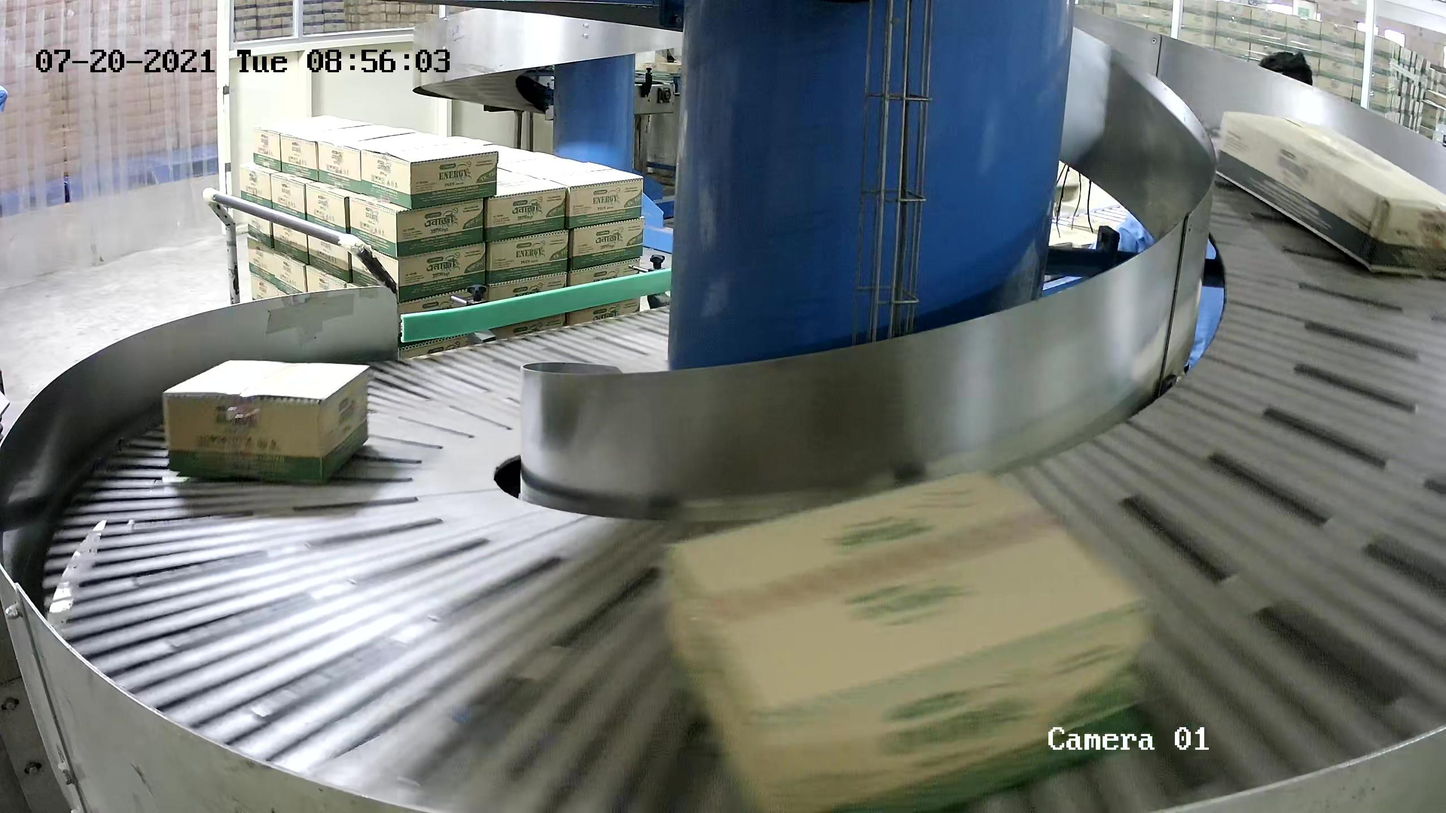Box: (654, 464, 1156, 813), (1204, 109, 1446, 280), (162, 359, 369, 488)
